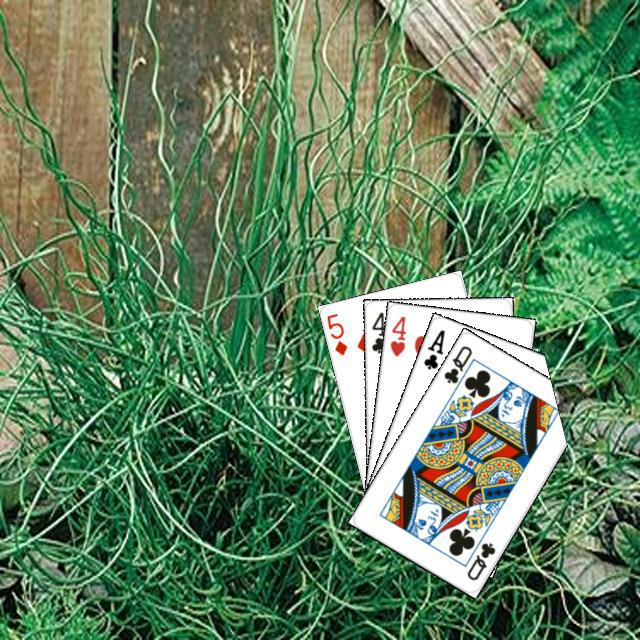4c: (366, 307, 388, 355)
4h: (385, 311, 408, 358)
5d: (322, 308, 349, 357)
Ac: (419, 324, 447, 372)
Qc: (439, 341, 478, 393), (462, 537, 497, 582)
